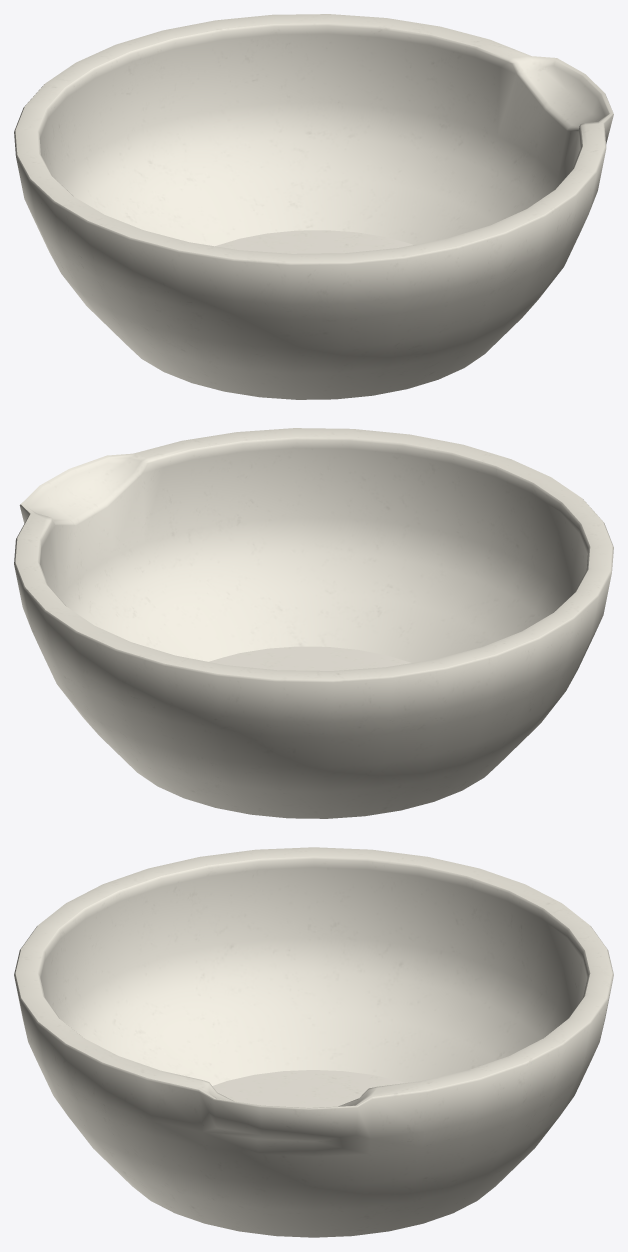
File: mortar.fbx
3 views of the same model, one above another, from view 1: azimuth 30°, elevation 25°; view 2: azimuth 150°, elevation 25°; view 3: azimuth 270°, elevation 25° (orthographic).
Parts seen in each view (by area): view 1: Mortar 16cm; view 2: Mortar 16cm; view 3: Mortar 16cm.
Boxes of the visible parts, <box> form: Mortar 16cm: <box>14,14,613,399</box>; Mortar 16cm: <box>14,428,613,818</box>; Mortar 16cm: <box>14,847,613,1237</box>.
Bounding box in the file's own units: 21.45 × 6.95 × 20.77.
